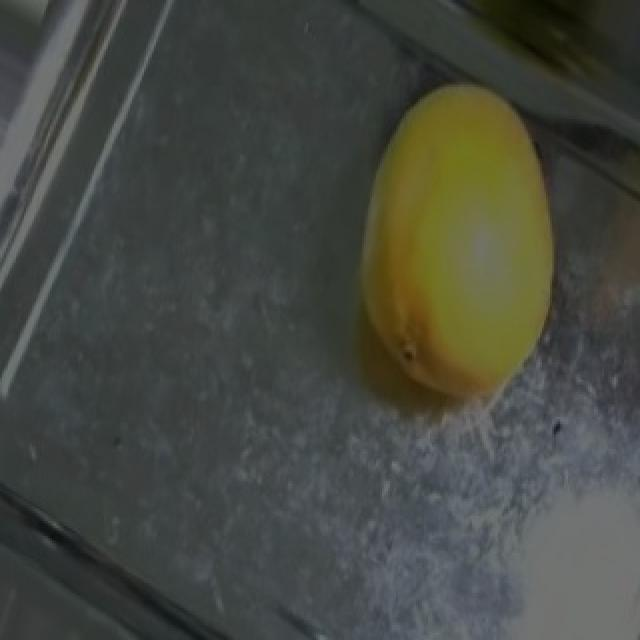fruit: (322, 47, 626, 437)
